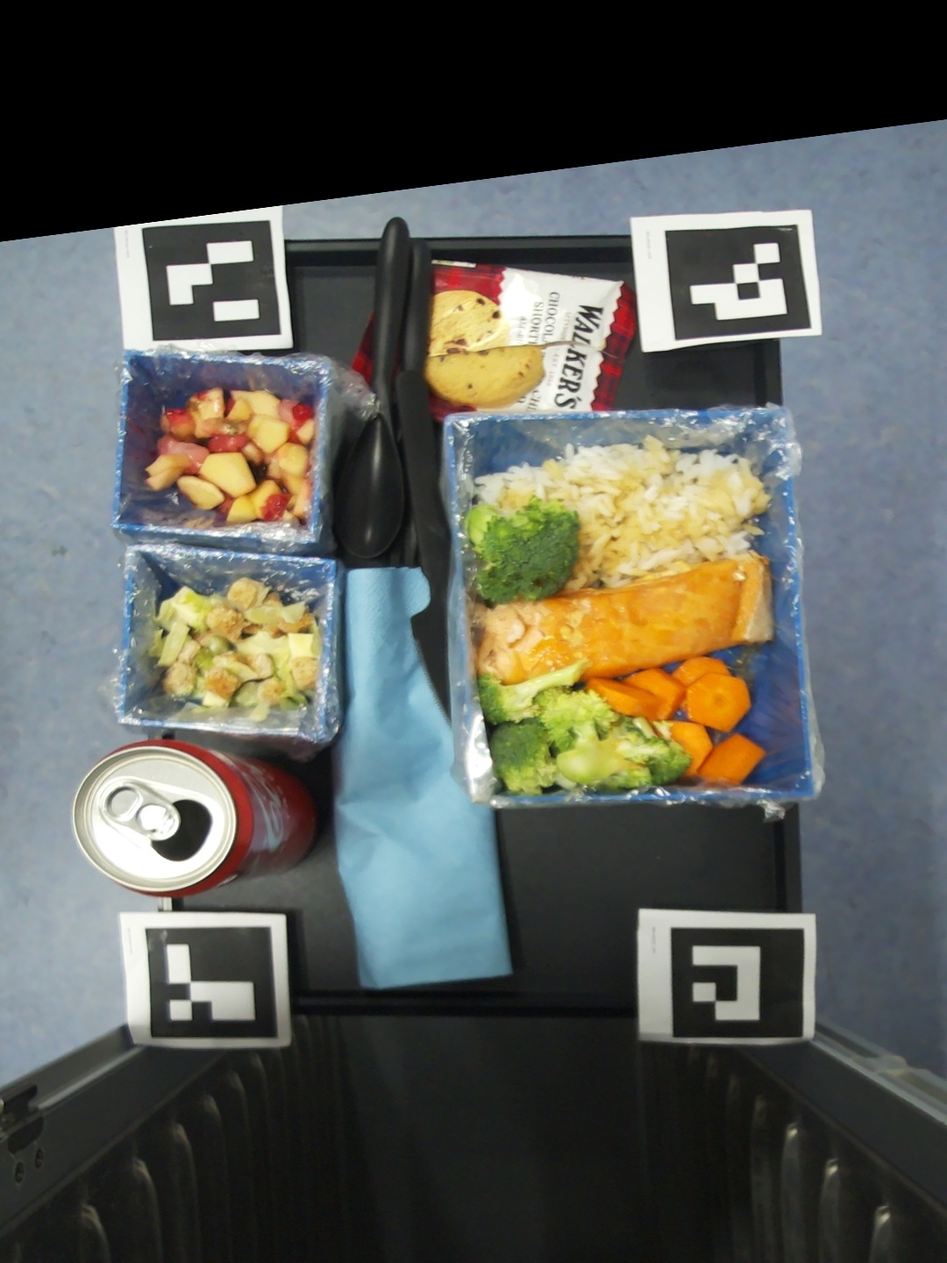broccoli: (478, 658, 692, 793), (468, 495, 580, 603)
carrots: (583, 655, 766, 784)
cola_can: (71, 741, 320, 897)
cookie: (350, 254, 636, 420)
fish_salmon: (478, 550, 775, 684)
fruit_salad: (144, 386, 313, 523)
rice: (472, 434, 773, 590)
side_salad: (148, 578, 319, 721)
